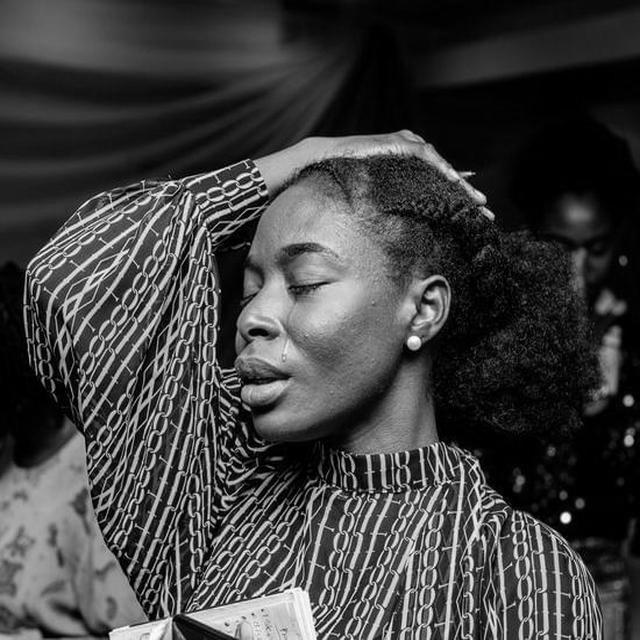Sadness: (235, 188, 381, 439)
